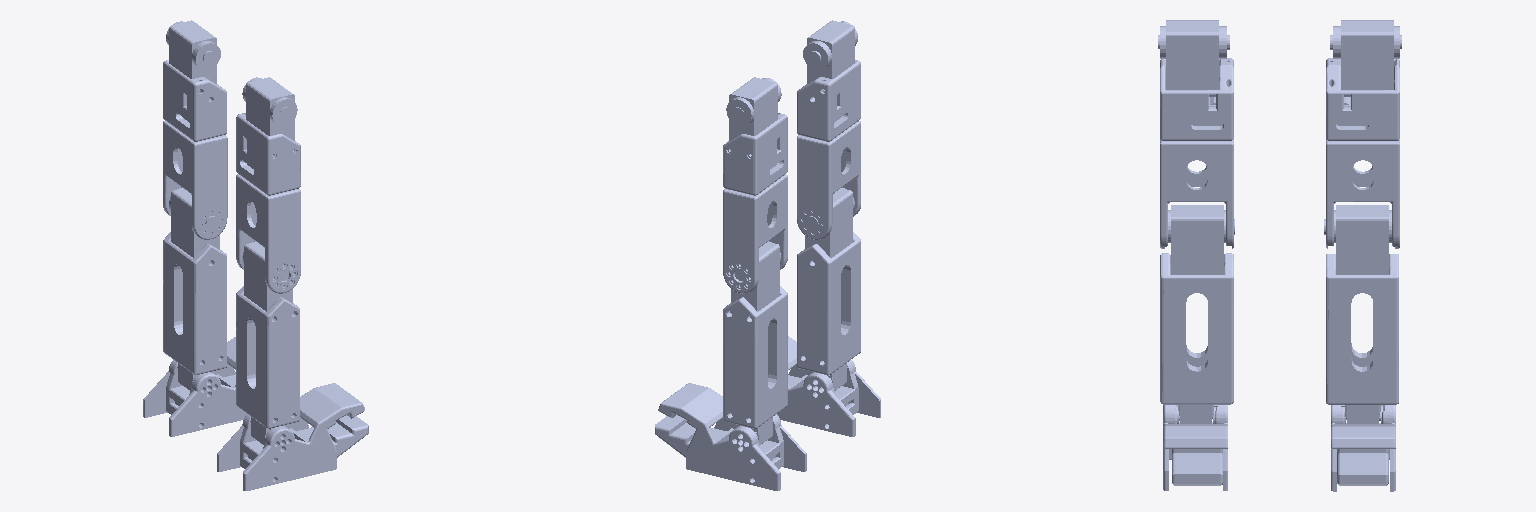
The robot description file, URDF, robot "SimpleTrans":
<?xml version="1.0" encoding="utf-8"?>
<!-- This URDF was automatically created by SolidWorks to URDF Exporter! Originally created by Stephen Brawner (brawner@gmail.com) 
     Commit Version: 1.6.0-4-g7f85cfe  Build Version: 1.6.7995.38578
     For more information, please see http://wiki.ros.org/sw_urdf_exporter -->
<robot
  name="SimpleTrans">
  <link
    name="Baselink">
    <inertial>
      <origin
        xyz="0.018314 -0.00054372 0.037647"
        rpy="0 0 0" />
      <mass
        value="1.3436" />
      <inertia
        ixx="0.0023951"
        ixy="-1.0923E-06"
        ixz="-4.7536E-06"
        iyy="0.0037184"
        iyz="-1.2407E-05"
        izz="0.0056916" />
    </inertial>
    <visual>
      <origin
        xyz="0 0 0"
        rpy="0 0 0" />
      <geometry>
        <mesh
          filename="../meshes/Baselink.STL" />
      </geometry>
      <material
        name="">
        <color
          rgba="0.79216 0.81961 0.93333 1" />
      </material>
    </visual>
    <collision>
      <origin
        xyz="0 0 0"
        rpy="0 0 0" />
      <geometry>
        <mesh
          filename="../meshes/Baselink.STL" />
      </geometry>
    </collision>
  </link>
  <link
    name="Hipleft">
    <inertial>
      <origin
        xyz="-0.0072771 0.0028372 -0.066579"
        rpy="0 0 0" />
      <mass
        value="0.31227" />
      <inertia
        ixx="0.00025957"
        ixy="4.8887E-07"
        ixz="3.119E-06"
        iyy="0.00016977"
        iyz="-1.0144E-05"
        izz="0.0001706" />
    </inertial>
    <visual>
      <origin
        xyz="0 0 0"
        rpy="0 0 0" />
      <geometry>
        <mesh
          filename="../meshes/Hipleft.STL" />
      </geometry>
      <material
        name="">
        <color
          rgba="0.79216 0.81961 0.93333 1" />
      </material>
    </visual>
    <collision>
      <origin
        xyz="0 0 0"
        rpy="0 0 0" />
      <geometry>
        <mesh
          filename="../meshes/Hipleft.STL" />
      </geometry>
    </collision>
  </link>
  <joint
    name="Hipleft_joint"
    type="revolute">
    <origin
      xyz="0.0003 -0.07965 0.0229"
      rpy="0 0 0" />
    <parent
      link="Baselink" />
    <child
      link="Hipleft" />
    <axis
      xyz="0 1 0" />
    <limit
      lower="-0.6108"
      upper="0.6351"
      effort="10.3"
      velocity="3.67" />
  </joint>
  <link
    name="Kneeleft">
    <inertial>
      <origin
        xyz="-0.0070907 0.00032186 -0.085667"
        rpy="0 0 0" />
      <mass
        value="0.33239" />
      <inertia
        ixx="0.00047372"
        ixy="4.7353E-10"
        ixz="-1.1527E-12"
        iyy="0.00038154"
        iyz="-1.1416E-06"
        izz="0.00017855" />
    </inertial>
    <visual>
      <origin
        xyz="0 0 0"
        rpy="0 0 0" />
      <geometry>
        <mesh
          filename="../meshes/Kneeleft.STL" />
      </geometry>
      <material
        name="">
        <color
          rgba="0.79216 0.81961 0.93333 1" />
      </material>
    </visual>
    <collision>
      <origin
        xyz="0 0 0"
        rpy="0 0 0" />
      <geometry>
        <mesh
          filename="../meshes/Kneeleft.STL" />
      </geometry>
    </collision>
  </link>
  <joint
    name="Kneeleft_joint"
    type="revolute">
    <origin
      xyz="0.0001 0.0042 -0.1851"
      rpy="0 0 0" />
    <parent
      link="Hipleft" />
    <child
      link="Kneeleft" />
    <axis
      xyz="0 1 0" />
    <limit
      lower="-1.4831"
      upper="1.5127"
      effort="10.3"
      velocity="3.67" />
  </joint>
  <link
    name="Footleft">
    <inertial>
      <origin
        xyz="0.029674 0.00078777 -0.017379"
        rpy="0 0 0" />
      <mass
        value="0.21382" />
      <inertia
        ixx="0.00012285"
        ixy="-7.514E-08"
        ixz="-6.5703E-05"
        iyy="0.00025452"
        iyz="-4.9921E-09"
        izz="0.00027082" />
    </inertial>
    <visual>
      <origin
        xyz="0 0 0"
        rpy="0 0 0" />
      <geometry>
        <mesh
          filename="../meshes/Footleft.STL" />
      </geometry>
      <material
        name="">
        <color
          rgba="0.79216 0.81961 0.93333 1" />
      </material>
    </visual>
    <collision>
      <origin
        xyz="0 0 0"
        rpy="0 0 0" />
      <geometry>
        <mesh
          filename="../meshes/Footleft.STL" />
      </geometry>
    </collision>
  </link>
  <joint
    name="Footleft_joint"
    type="revolute">
    <origin
      xyz="-0.0003 -0.00095 -0.19"
      rpy="0 0 0" />
    <parent
      link="Kneeleft" />
    <child
      link="Footleft" />
    <axis
      xyz="0 1 0" />
    <limit
      lower="-0.7027"
      upper="1.1381"
      effort="2.94"
      velocity="4.82" />
  </joint>
  <link
    name="Hipright">
    <inertial>
      <origin
        xyz="-0.0072771 -0.0028372 -0.066579"
        rpy="0 0 0" />
      <mass
        value="0.31227" />
      <inertia
        ixx="0.00025957"
        ixy="-4.8881E-07"
        ixz="3.1191E-06"
        iyy="0.00016977"
        iyz="1.0144E-05"
        izz="0.0001706" />
    </inertial>
    <visual>
      <origin
        xyz="0 0 0"
        rpy="0 0 0" />
      <geometry>
        <mesh
          filename="../meshes/Hipright.STL" />
      </geometry>
      <material
        name="">
        <color
          rgba="0.79216 0.81961 0.93333 1" />
      </material>
    </visual>
    <collision>
      <origin
        xyz="0 0 0"
        rpy="0 0 0" />
      <geometry>
        <mesh
          filename="../meshes/Hipright.STL" />
      </geometry>
    </collision>
  </link>
  <joint
    name="Hipright_joint"
    type="revolute">
    <origin
      xyz="0.0003 0.07965 0.0229"
      rpy="0 0 0" />
    <parent
      link="Baselink" />
    <child
      link="Hipright" />
    <axis
      xyz="0 1 0" />
    <limit
      lower="-0.6108"
      upper="0.6351"
      effort="10.3"
      velocity="3.67" />
  </joint>
  <link
    name="Kneeright">
    <inertial>
      <origin
        xyz="-0.0069093 -0.00067633 -0.085667"
        rpy="0 0 0" />
      <mass
        value="0.33239" />
      <inertia
        ixx="0.00047372"
        ixy="4.7353E-10"
        ixz="1.1527E-12"
        iyy="0.00038154"
        iyz="1.1416E-06"
        izz="0.00017855" />
    </inertial>
    <visual>
      <origin
        xyz="0 0 0"
        rpy="0 0 0" />
      <geometry>
        <mesh
          filename="../meshes/Kneeright.STL" />
      </geometry>
      <material
        name="">
        <color
          rgba="0.79216 0.81961 0.93333 1" />
      </material>
    </visual>
    <collision>
      <origin
        xyz="0 0 0"
        rpy="0 0 0" />
      <geometry>
        <mesh
          filename="../meshes/Kneeright.STL" />
      </geometry>
    </collision>
  </link>
  <joint
    name="Kneeright_joint"
    type="revolute">
    <origin
      xyz="0.0001 -0.0042 -0.1851"
      rpy="0 0 0" />
    <parent
      link="Hipright" />
    <child
      link="Kneeright" />
    <axis
      xyz="0 1 0" />
    <limit
      lower="-1.4831"
      upper="1.5127"
      effort="10.3"
      velocity="3.67" />
  </joint>
  <link
    name="Footright">
    <inertial>
      <origin
        xyz="0.029674 -0.00021386 -0.017279"
        rpy="0 0 0" />
      <mass
        value="0.21382" />
      <inertia
        ixx="0.00012285"
        ixy="-7.5141E-08"
        ixz="-6.5703E-05"
        iyy="0.00025452"
        iyz="-4.9922E-09"
        izz="0.00027082" />
    </inertial>
    <visual>
      <origin
        xyz="0 0 0"
        rpy="0 0 0" />
      <geometry>
        <mesh
          filename="../meshes/Footright.STL" />
      </geometry>
      <material
        name="">
        <color
          rgba="0.79216 0.81961 0.93333 1" />
      </material>
    </visual>
    <collision>
      <origin
        xyz="0 0 0"
        rpy="0 0 0" />
      <geometry>
        <mesh
          filename="../meshes/Footright.STL" />
      </geometry>
    </collision>
  </link>
  <joint
    name="Footright_joint"
    type="revolute">
    <origin
      xyz="0.0003 0.00045 -0.19"
      rpy="0 0 0" />
    <parent
      link="Kneeright" />
    <child
      link="Footright" />
    <axis
      xyz="0 1 0" />
    <limit
      lower="-0.7027"
      upper="1.1381"
      effort="2.94"
      velocity="4.82" />
  </joint>
</robot>

--- What the picture shows (computed from the rendered views, not written in the file) ---
Views: 3 orthographic renders of the robot side by side, from view 1: azimuth 30°, elevation 25°; view 2: azimuth 150°, elevation 25°; view 3: azimuth 270°, elevation 25°.
Robot: SimpleTrans — 7 links, 6 joints (6 revolute); root link Baselink; default pose: all joints at 0.
Visible links, largest first — view 1: Hipleft, Hipright, Kneeright, Kneeleft, Footleft, Footright; view 2: Hipright, Hipleft, Kneeright, Kneeleft, Footright, Footleft; view 3: Hipleft, Hipright, Kneeleft, Kneeright, Footright, Footleft.
Link boxes in pixels (x1,y1,x2,y2): Hipleft: (236,77,300,293); Hipright: (163,20,227,239); Kneeright: (163,188,226,390); Kneeleft: (236,241,299,444); Footleft: (217,383,368,490); Footright: (143,337,246,436); Hipright: (723,77,787,293); Hipleft: (797,20,860,239); Kneeright: (723,241,787,444); Kneeleft: (797,188,860,390); Footright: (655,383,806,490); Footleft: (777,336,880,436); Hipleft: (1158,20,1233,248); Hipright: (1326,20,1401,248); Kneeleft: (1160,205,1234,423); Kneeright: (1324,205,1398,423); Footright: (1331,405,1395,491); Footleft: (1163,405,1227,490).
Size in the robot's own frame: 0.1525 by 0.2209 by 0.436 metres.
Meshes: 7 distinct files referenced, 6 mesh visuals loaded (6 binary STL); not drawn: 1 (reference not matched to a file when rendering).
